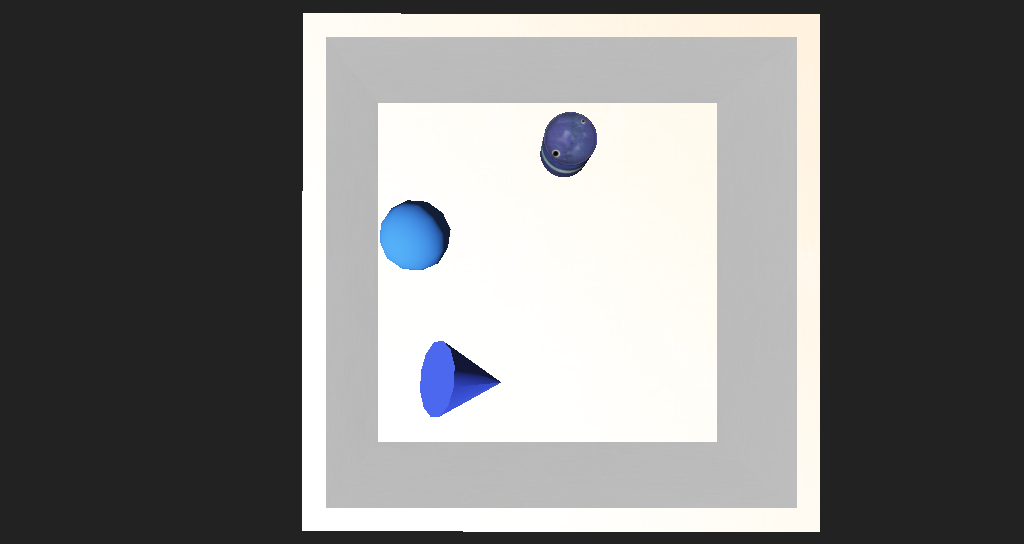cone: (502, 169, 549, 212)
cylinder: (374, 301, 488, 377)
sphere: (360, 227, 421, 270)
